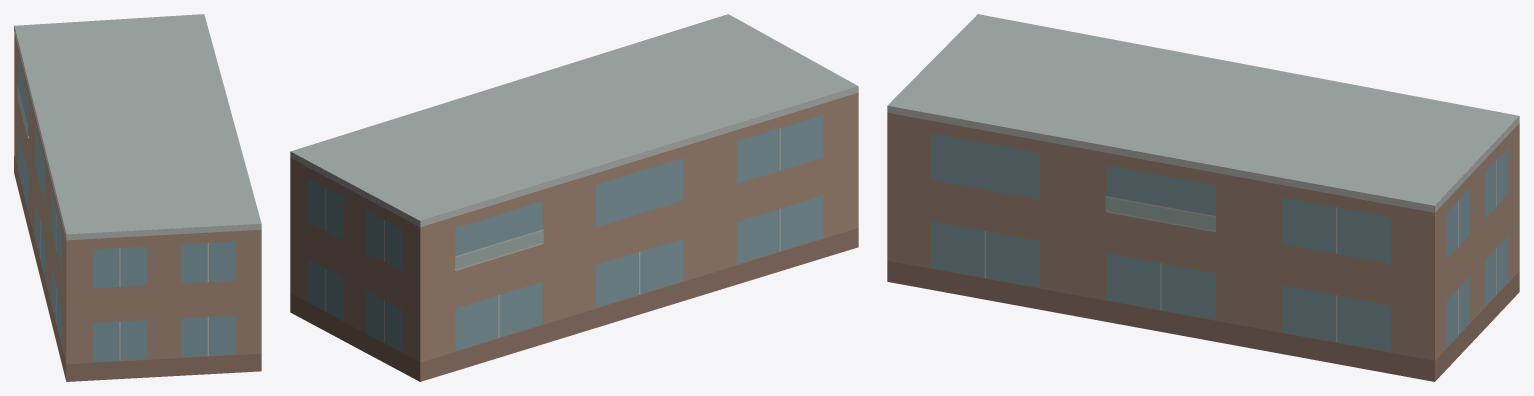
The model's file is survey-upis-32532823.glb.
3 views of the same model, side by side, from view 1: azimuth 30°, elevation 25°; view 2: azimuth 150°, elevation 25°; view 3: azimuth 270°, elevation 25° (orthographic). The views are drawn at different scales.
Visible parts, largest first — view 1: survey-upis-32532823.tmp; view 2: survey-upis-32532823.tmp; view 3: survey-upis-32532823.tmp.
Boxes of the visible parts, left/top/right/bottom form: survey-upis-32532823.tmp: left=14, top=14, right=261, bottom=381; survey-upis-32532823.tmp: left=290, top=14, right=858, bottom=381; survey-upis-32532823.tmp: left=887, top=14, right=1519, bottom=381.
Bounding box in the file's own units: 14.27 × 6.1 × 19.87.
